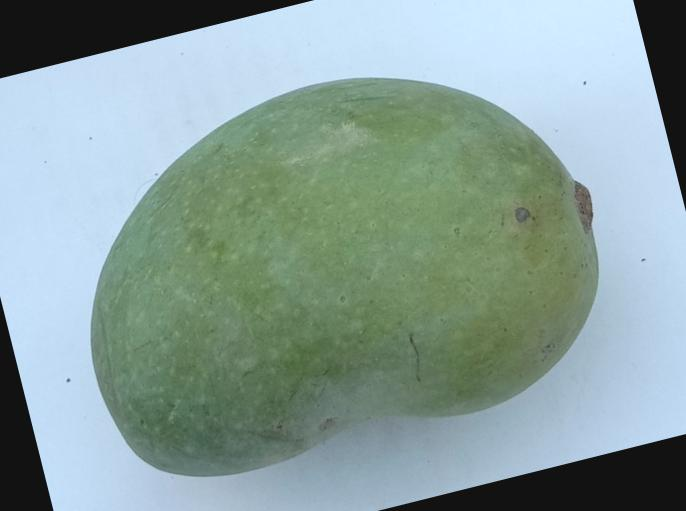Mango Unripe: (24, 16, 686, 511)
